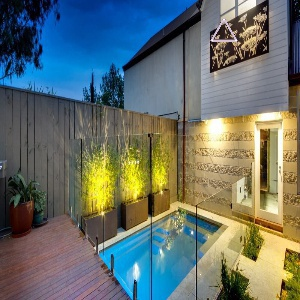triangle: (208, 16, 241, 45)
